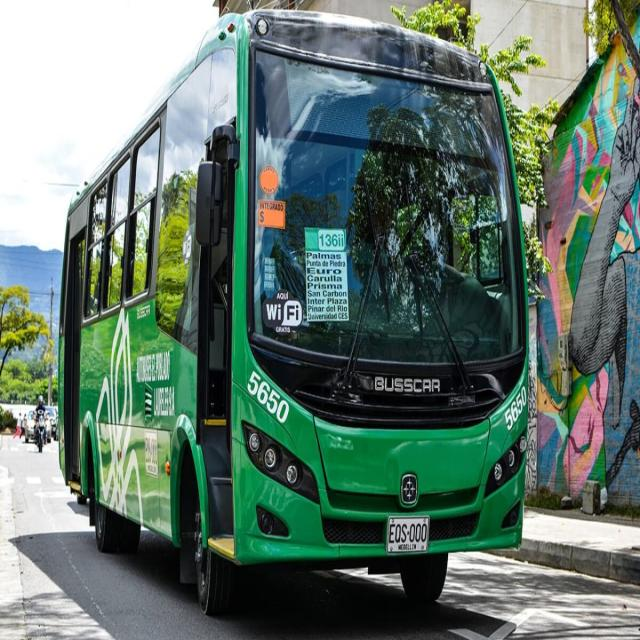BUS: (55, 8, 533, 610)
